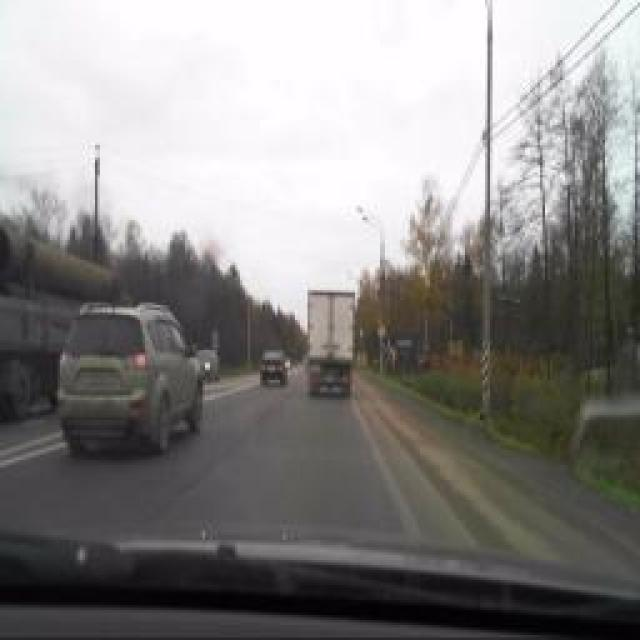sign: (375, 321, 387, 341)
